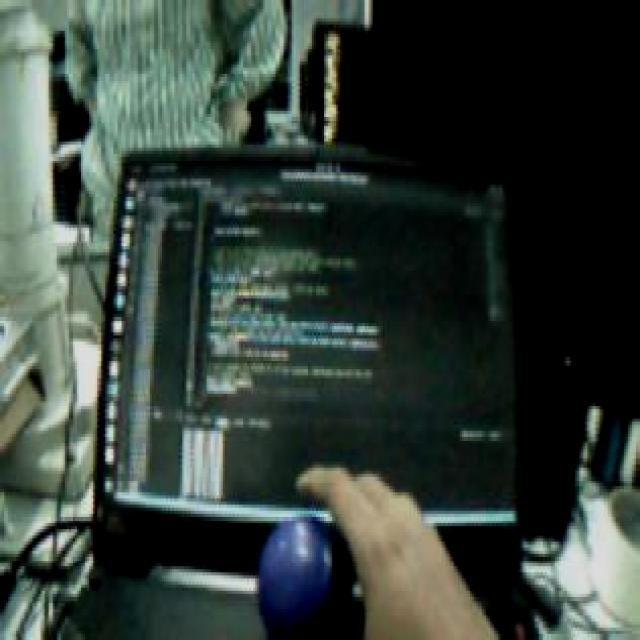BallPurple: (255, 514, 352, 640)
